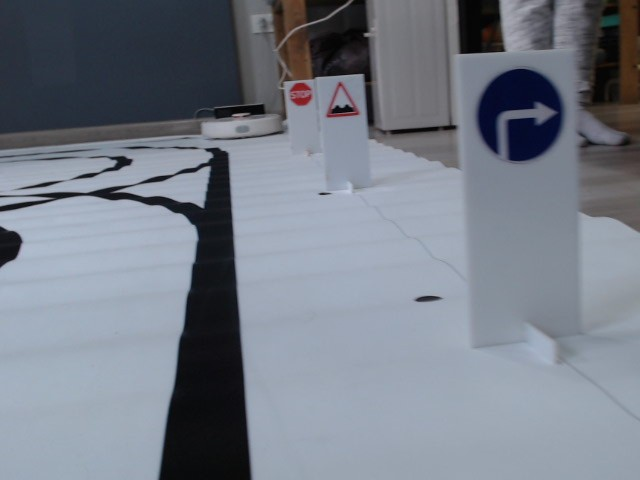Nerov: (326, 80, 360, 117)
Right: (475, 65, 565, 168)
Stop: (287, 83, 311, 106)
